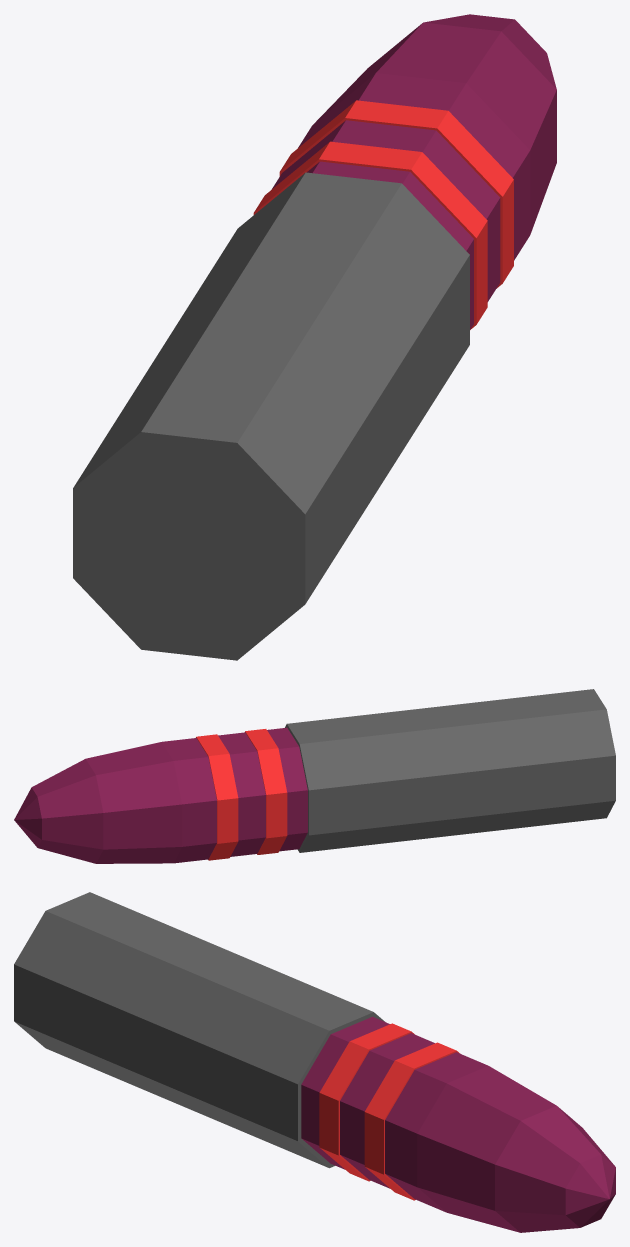
Rendered from ce_ammo2_rcl84_thermo_a.obj.
3 views of the same model, one above another, from view 1: azimuth 30°, elevation 25°; view 2: azimuth 150°, elevation 25°; view 3: azimuth 270°, elevation 25° (orthographic). The views are drawn at different scales.
Visible parts, largest first — view 1: ce_ammo2_rcl84_thermo_a_0, ce_ammo2_rcl84_thermo_a_6, ce_ammo2_rcl84_thermo_a_5, ce_ammo2_rcl84_thermo_a_3, ce_ammo2_rcl84_thermo_a_4, ce_ammo2_rcl84_thermo_a_2, ce_ammo2_rcl84_thermo_a_1, ce_ammo2_rcl84_thermo_a_7; view 2: ce_ammo2_rcl84_thermo_a_0, ce_ammo2_rcl84_thermo_a_6, ce_ammo2_rcl84_thermo_a_7, ce_ammo2_rcl84_thermo_a_5, ce_ammo2_rcl84_thermo_a_3, ce_ammo2_rcl84_thermo_a_4, ce_ammo2_rcl84_thermo_a_2, ce_ammo2_rcl84_thermo_a_1, ce_ammo2_rcl84_thermo_a_8; view 3: ce_ammo2_rcl84_thermo_a_0, ce_ammo2_rcl84_thermo_a_6, ce_ammo2_rcl84_thermo_a_7, ce_ammo2_rcl84_thermo_a_5, ce_ammo2_rcl84_thermo_a_3, ce_ammo2_rcl84_thermo_a_2, ce_ammo2_rcl84_thermo_a_4, ce_ammo2_rcl84_thermo_a_1, ce_ammo2_rcl84_thermo_a_8.
Boxes of the visible parts, x1,y1,x2,y2 form: ce_ammo2_rcl84_thermo_a_0: (73, 172, 469, 660); ce_ammo2_rcl84_thermo_a_6: (313, 22, 556, 234); ce_ammo2_rcl84_thermo_a_5: (298, 73, 530, 260); ce_ammo2_rcl84_thermo_a_3: (271, 120, 500, 301); ce_ammo2_rcl84_thermo_a_4: (279, 100, 513, 288); ce_ammo2_rcl84_thermo_a_2: (253, 141, 487, 329); ce_ammo2_rcl84_thermo_a_1: (307, 161, 473, 329); ce_ammo2_rcl84_thermo_a_7: (423, 14, 556, 89); ce_ammo2_rcl84_thermo_a_0: (285, 689, 615, 852); ce_ammo2_rcl84_thermo_a_6: (86, 742, 182, 863); ce_ammo2_rcl84_thermo_a_7: (32, 759, 103, 863); ce_ammo2_rcl84_thermo_a_5: (162, 738, 216, 863); ce_ammo2_rcl84_thermo_a_3: (218, 732, 265, 856); ce_ammo2_rcl84_thermo_a_4: (196, 734, 238, 860); ce_ammo2_rcl84_thermo_a_2: (245, 729, 287, 854); ce_ammo2_rcl84_thermo_a_1: (267, 727, 307, 851); ce_ammo2_rcl84_thermo_a_8: (14, 787, 41, 847); ce_ammo2_rcl84_thermo_a_0: (14, 892, 384, 1168); ce_ammo2_rcl84_thermo_a_6: (417, 1066, 556, 1232); ce_ammo2_rcl84_thermo_a_7: (495, 1105, 614, 1232); ce_ammo2_rcl84_thermo_a_5: (385, 1052, 488, 1212); ce_ammo2_rcl84_thermo_a_3: (340, 1033, 434, 1188); ce_ammo2_rcl84_thermo_a_2: (319, 1023, 414, 1181); ce_ammo2_rcl84_thermo_a_4: (364, 1042, 460, 1200); ce_ammo2_rcl84_thermo_a_1: (301, 1016, 389, 1169); ce_ammo2_rcl84_thermo_a_8: (565, 1154, 615, 1227).
Size of the model in its own units: 0.6596 by 0.1662 by 0.6596.
